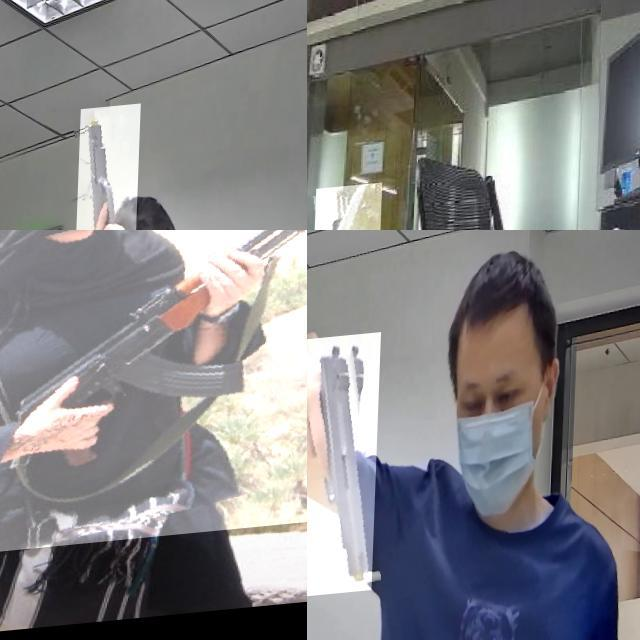-: (317, 189, 386, 230)
gun-knife-thesis - v11 Yolov5 augmented: (0, 230, 307, 565), (307, 338, 383, 603), (76, 108, 143, 230)
